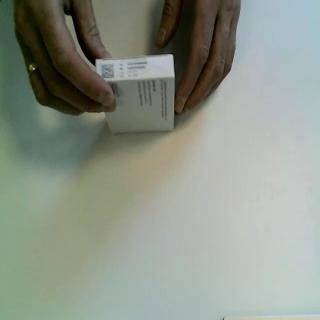dolcontin10mg: (95, 53, 177, 136)
